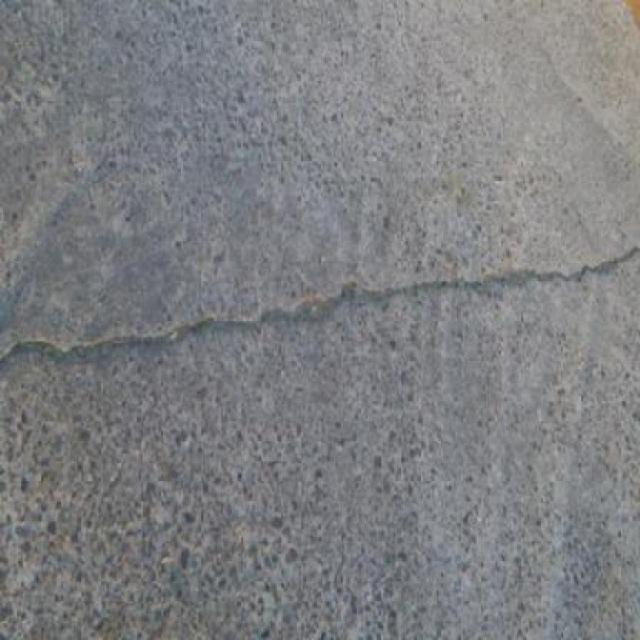GRIETA: (1, 248, 639, 366)
